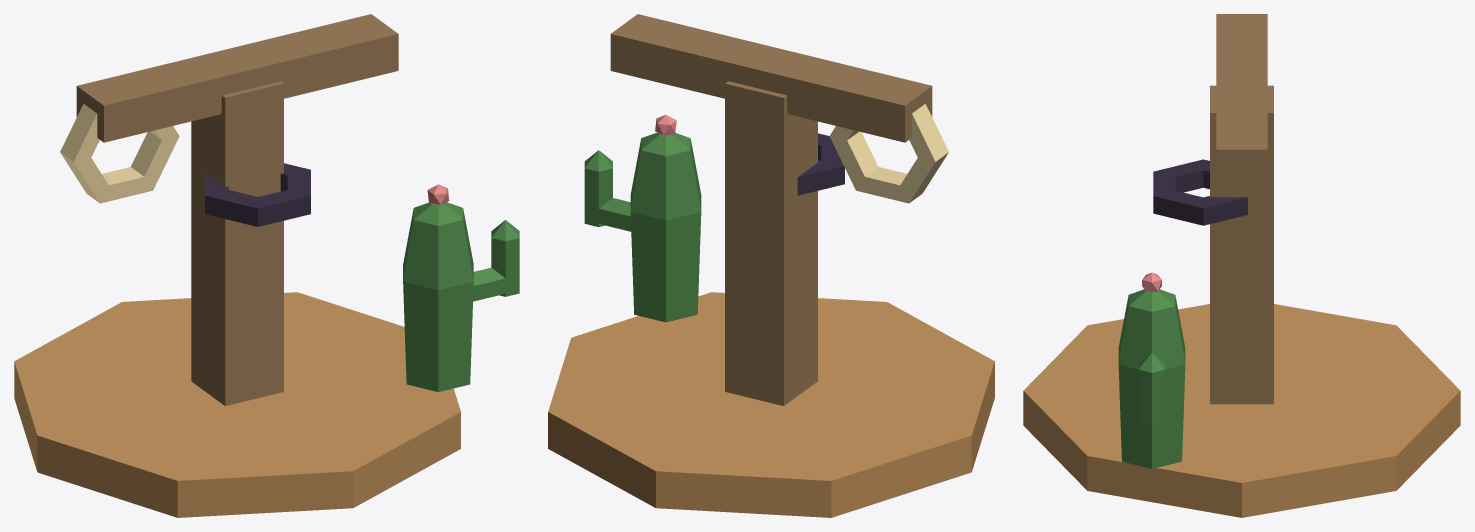
Rendered from wildwest-landmark-s1.glb.
The picture shows the model from 3 angles, left to right: view 1: azimuth 30°, elevation 25°; view 2: azimuth 150°, elevation 25°; view 3: azimuth 270°, elevation 25°; orthographic projection. The views are drawn at different scales.
Visible parts, largest first — view 1: wildwest-landmark-s1; view 2: wildwest-landmark-s1; view 3: wildwest-landmark-s1.
Boxes of the visible parts, x1,y1,x2,y2 form: wildwest-landmark-s1: (14, 14, 519, 517); wildwest-landmark-s1: (548, 14, 994, 517); wildwest-landmark-s1: (1023, 14, 1460, 517).
Size of the model in its own units: 0.738 by 0.59 by 0.68.
